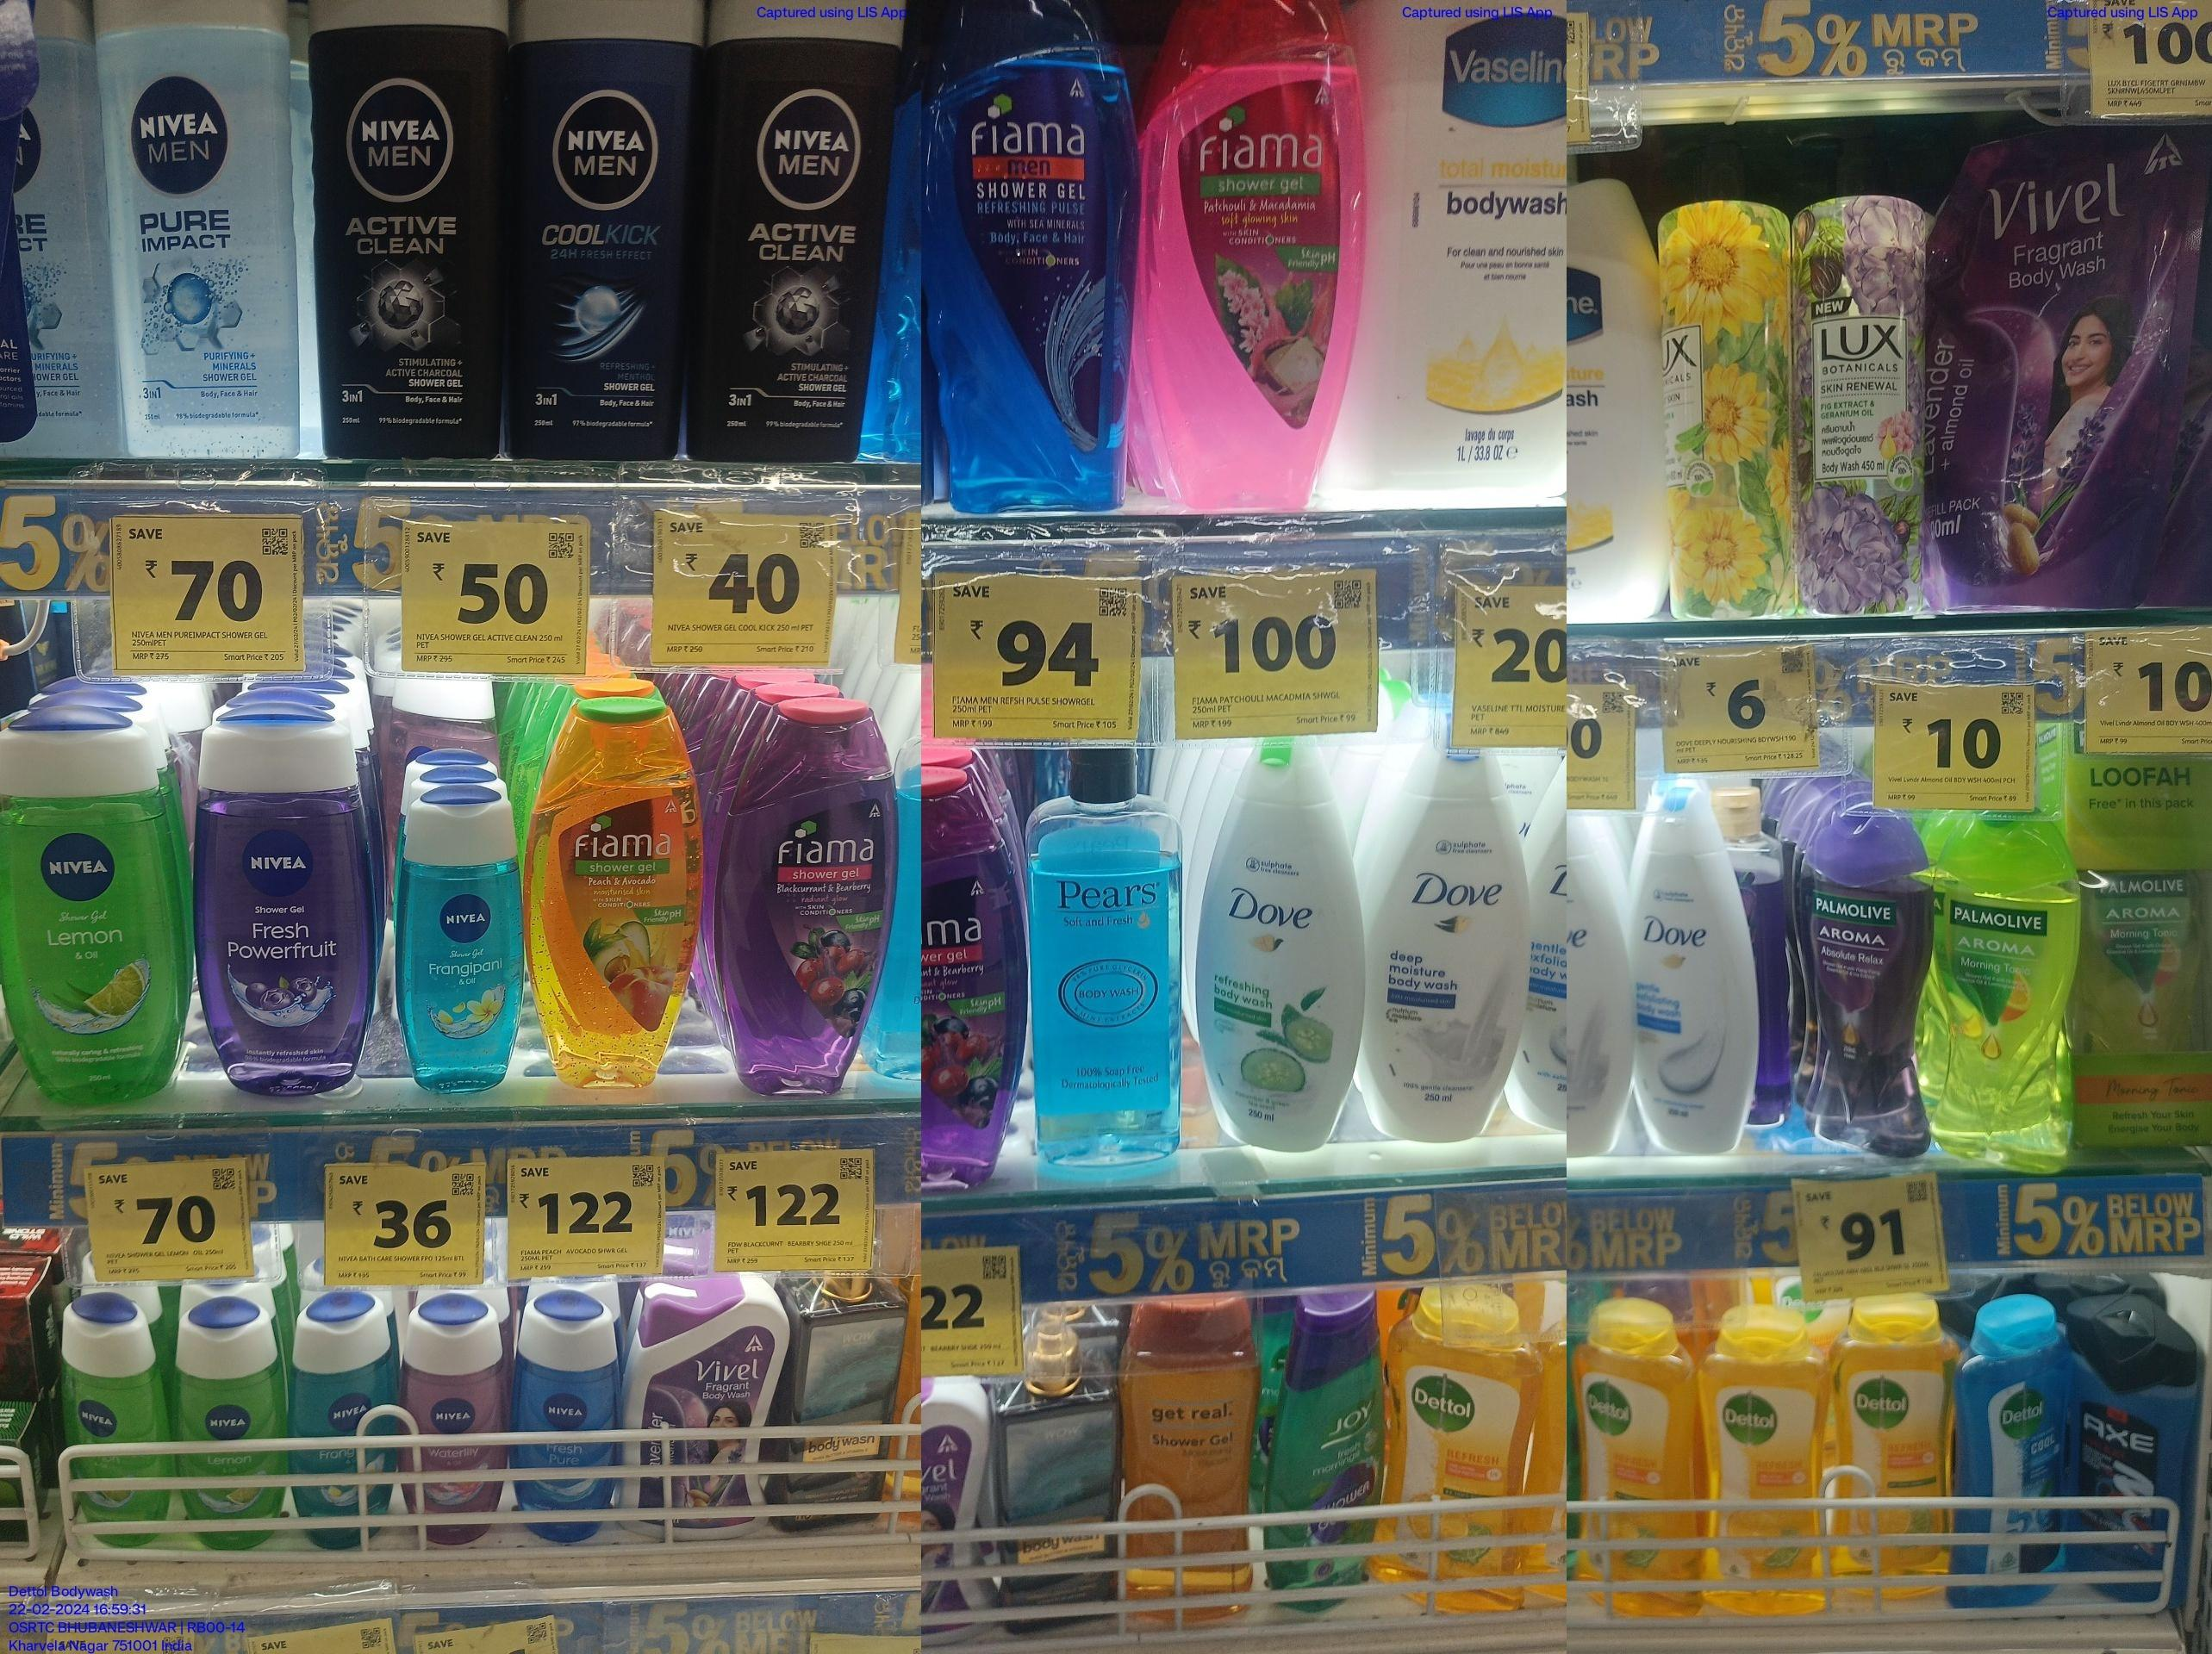Dettol_Bodywash_Cool: (1964, 1324, 2068, 1595)
Dettol_Bodywash_Refresh: (1583, 1300, 1710, 1614), (1838, 1301, 1960, 1600), (1715, 1324, 1825, 1638)
Dove_Deep_Moisture_Body_Wash_250ML: (1374, 721, 1519, 1145)
Dove_Gentle_Exfoliating_Body_Wash_250ML: (1632, 784, 1760, 1152)
Dove_Refreshing_Body_Wash_250ML: (1176, 726, 1345, 1162)
Fiama_Shower_Gel_Patchouli_and_Macadamia_250ML: (1123, 0, 1334, 507)
Fiama_Shower_Gel_Peach_and_Avocado_250ML: (528, 698, 688, 1105)
Get_Real_Shower_Gel_Moisturising_Glycerin_300ML: (1124, 1298, 1260, 1633)
Joy_Shower_Gel_Mint_and_Eucalyptus_250ML: (1281, 1293, 1383, 1597)
Nivea_Shower_Gel_Fresh_Powerfruit_250ML: (198, 726, 372, 1115)
Nivea_Shower_Gel_Lemon_and_Oil_250ML: (0, 716, 184, 1108)
Palmolive_Aroma_Morning_Tonic_Shower_Gel_250ML: (1927, 777, 2073, 1147)
Palmolive_Aroma_Relax_250ML: (1790, 817, 1922, 1154)
Pears_Pure_Glycerin_and_Mint_Extracts_Body_Wash_250ML: (1020, 749, 1173, 1161)
